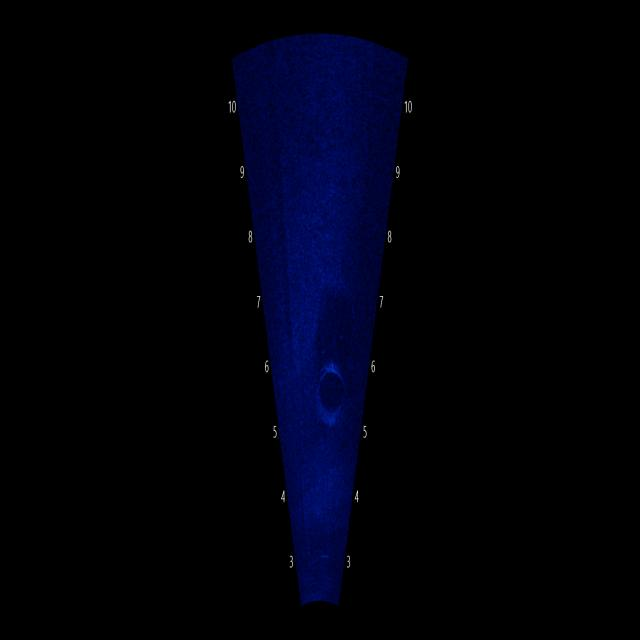circle: (312, 348, 351, 433)
